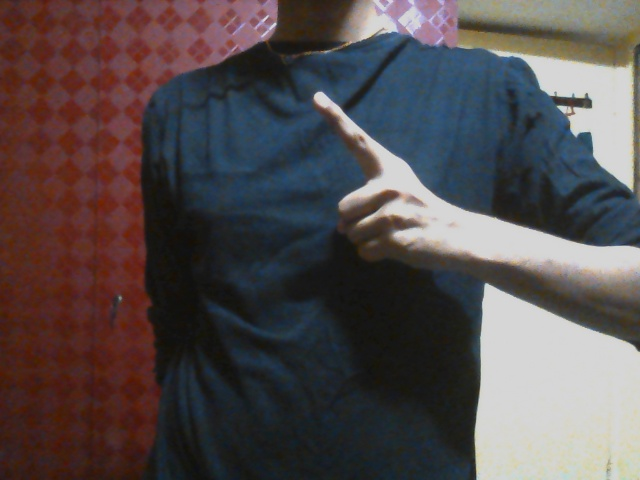I: (305, 84, 450, 272)
